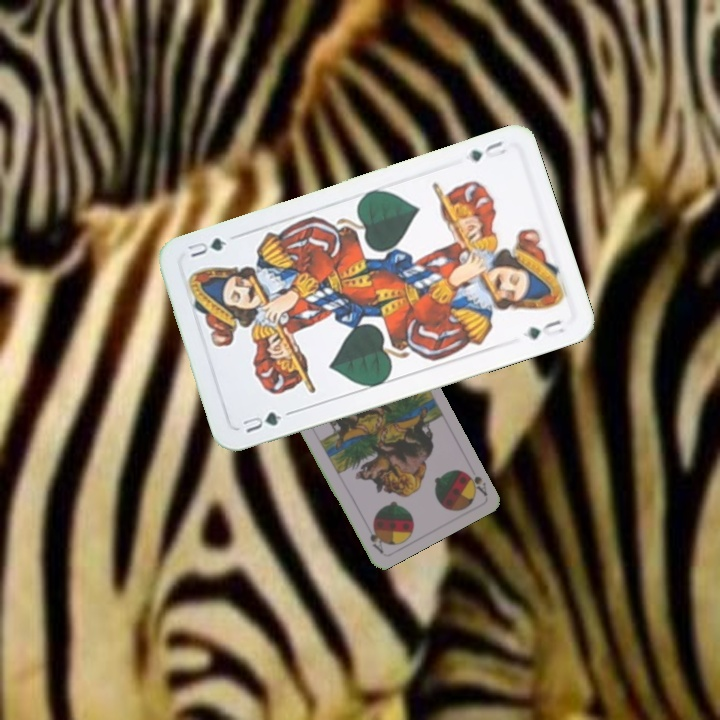GU: (238, 407, 284, 436), (464, 137, 510, 164)
SA: (461, 467, 490, 498)
